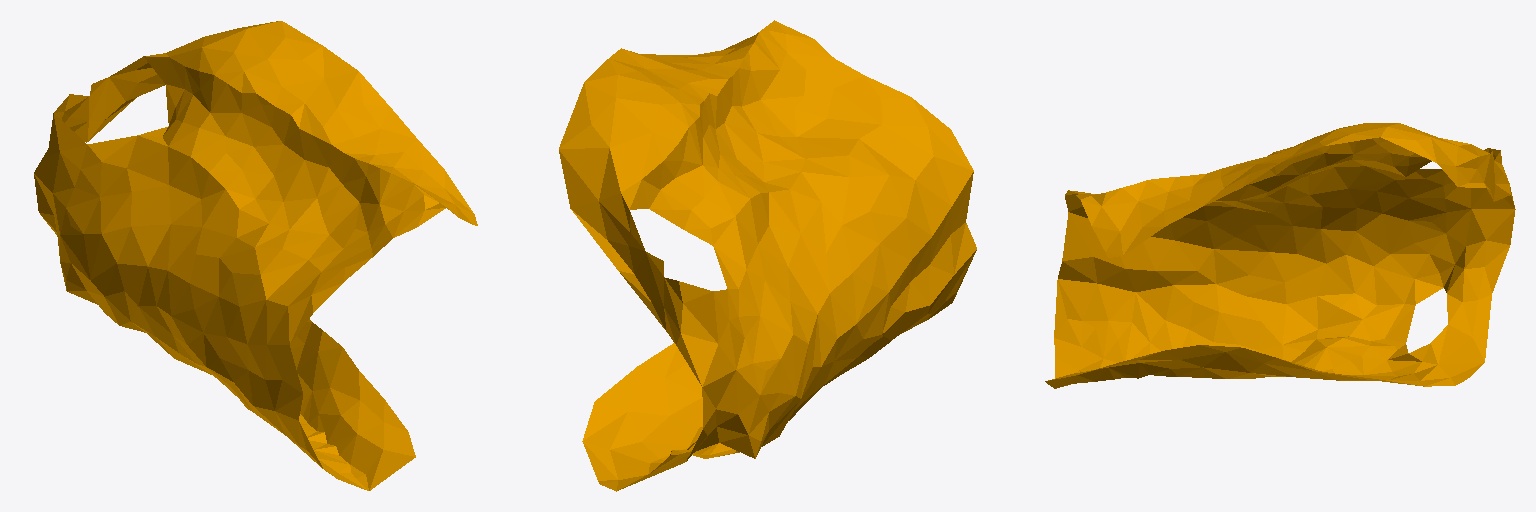
The robot description file, URDF, robot "init":
<?xml version='1.0' encoding='utf-8'?>
<robot name="init">
<link name="link_0"><inertial><mass value="1.0" /><origin rpy="0 0 0" xyz="0.000000 0.000000 0.000000" /><inertia ixx="1.0" ixy="0.0" ixz="0.0" iyy="1.0" iyz="0.0" izz="1.0" /></inertial><visual><origin rpy="0 0 0" xyz="0.000000 0.000000 0.000000" /><geometry><mesh filename="./clothHuman/cloth/2697.obj" /></geometry></visual><collision><origin rpy="0 0 0" xyz="0.000000 0.000000 0.000000" /><geometry><mesh filename="./clothHuman/cloth/2697.obj" /></geometry></collision></link></robot>

--- Facts derived from the render (not from the file) ---
3 views of the same robot in one strip: view 1: azimuth 30°, elevation 25°; view 2: azimuth 150°, elevation 25°; view 3: azimuth 270°, elevation 25° (orthographic).
Robot: init — 1 links, 0 joints (none); root link link_0; default pose: every joint at zero.
Links seen in each view (by area): view 1: link_0; view 2: link_0; view 3: link_0.
Link boxes in pixels (x1,y1,x2,y2): link_0: [34, 21, 477, 490]; link_0: [559, 20, 976, 491]; link_0: [1045, 123, 1515, 388].
Bounding box of the posed robot: 2.07 × 3.86 × 2.64 m (x, y, z).
Meshes: 1 distinct files referenced, 1 mesh visuals loaded (1 OBJ).